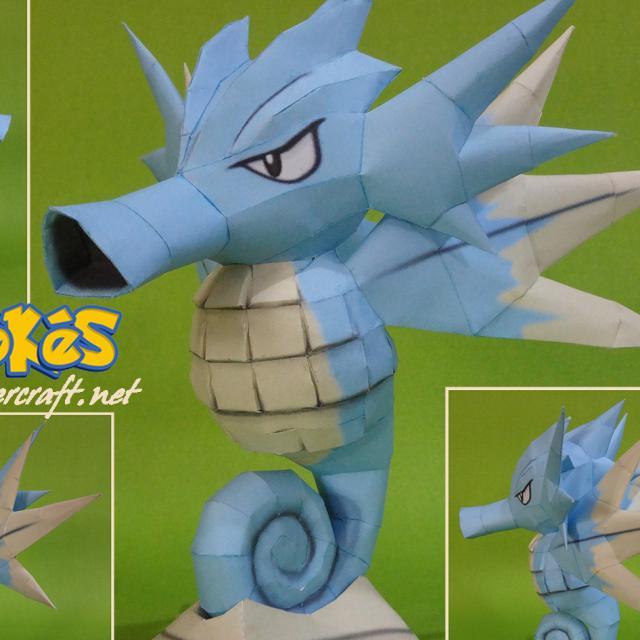Seadra: (92, 0, 461, 596), (469, 395, 640, 640)
